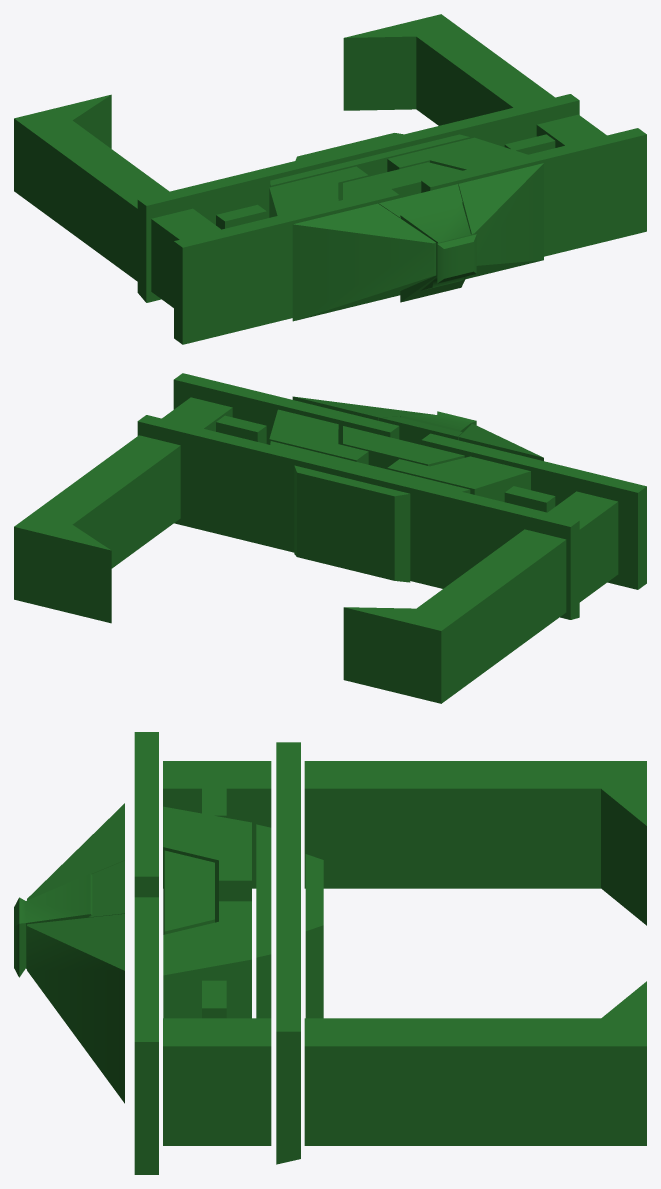
The model's file is recognizer.fbx.
The picture shows the model from 3 angles, top to bottom: view 1: azimuth 30°, elevation 25°; view 2: azimuth 150°, elevation 25°; view 3: azimuth 270°, elevation 25°; orthographic projection. The views are drawn at different scales.
Parts seen in each view (by area): view 1: g LegA02, g LegB02, g Shoulder01, g Shoulder02, g Head02, g Middle_Bar, g Head04, g Head01, g LegA01, g Chest03, g Chest02, g Chest01 (+6 smaller); view 2: g Middle_Bar, g LegA02, g LegB02, g Lower_Midd, g Shoulder01, g Shoulder02, g LegA01, g Chest03, g Chest02, g Chest01, g LegB01, g Head04 (+6 smaller); view 3: g LegB02, g LegA02, g LegB01, g Head04, g Middle_Bar, g Chest02, g Shoulder02, g LegA01, g Chest03, g Shoulder01, g Chest01, g Head01 (+6 smaller).
Boxes of the visible parts, box(x1,y1,x2,y2) form: g LegA02: box(14, 94, 169, 281); g LegB02: box(343, 14, 554, 125); g Shoulder01: box(174, 188, 399, 344); g Shoulder02: box(421, 128, 646, 256); g Head02: box(292, 203, 436, 321); g Middle_Bar: box(137, 94, 579, 302); g Head04: box(458, 163, 543, 279); g Head01: box(400, 200, 476, 302); g LegA01: box(151, 208, 220, 307); g Chest03: box(269, 166, 368, 217); g Chest02: box(387, 137, 527, 171); g Chest01: box(343, 162, 461, 199); g Middle_Bar: box(137, 415, 579, 619); g LegA02: box(343, 529, 566, 703); g LegB02: box(14, 435, 180, 623); g Lower_Midd: box(294, 465, 410, 582); g Shoulder01: box(421, 433, 646, 589); g Shoulder02: box(173, 373, 399, 444); g LegA01: box(548, 491, 618, 602); g Chest03: box(387, 456, 530, 501); g Chest02: box(269, 409, 368, 464); g Chest01: box(343, 426, 464, 469); g LegB01: box(162, 397, 232, 431); g Head04: box(292, 396, 434, 420); g LegB02: box(304, 981, 646, 1145); g LegA02: box(304, 761, 646, 925); g LegB01: box(163, 1018, 271, 1145); g Head04: box(27, 914, 124, 1103); g Middle_Bar: box(276, 742, 300, 1164); g Chest02: box(163, 901, 251, 1018); g Shoulder02: box(134, 897, 158, 1174); g LegA01: box(163, 761, 271, 888); g Chest03: box(163, 806, 251, 934); g Shoulder01: box(134, 732, 158, 897); g Chest01: box(164, 850, 214, 934); g Head01: box(14, 873, 92, 977).
Bounding box in the file's own units: 300 × 60 × 259.
